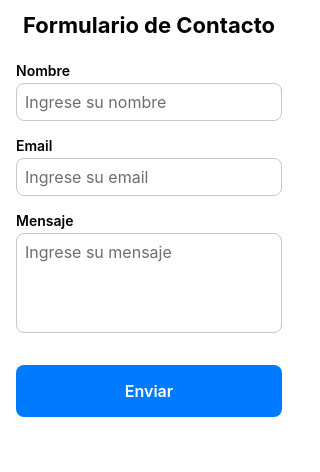
Test: Form Component › Validation › shows error when email is empty
This screenshot has width=320, height=472.
Type "John Doe" into the field with test id "name-input" at (149, 102), box [16,83,282,121]
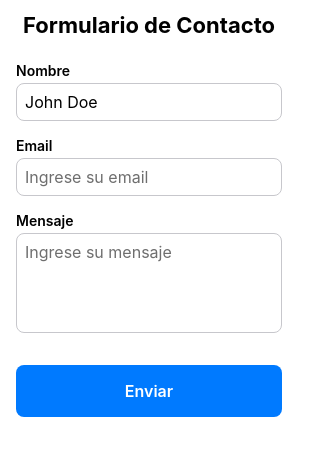
Click the element with test id "submit-button" at (149, 391), box [16,365,282,417]
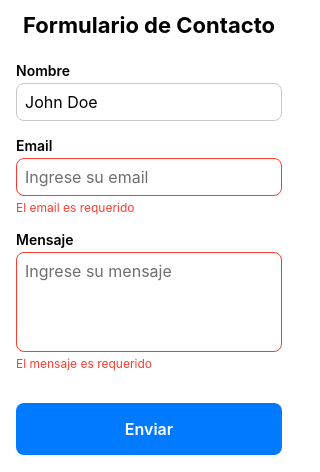
expect the text with test id "email-error" reads "El email es requerido": met, box [16,200,134,215]
